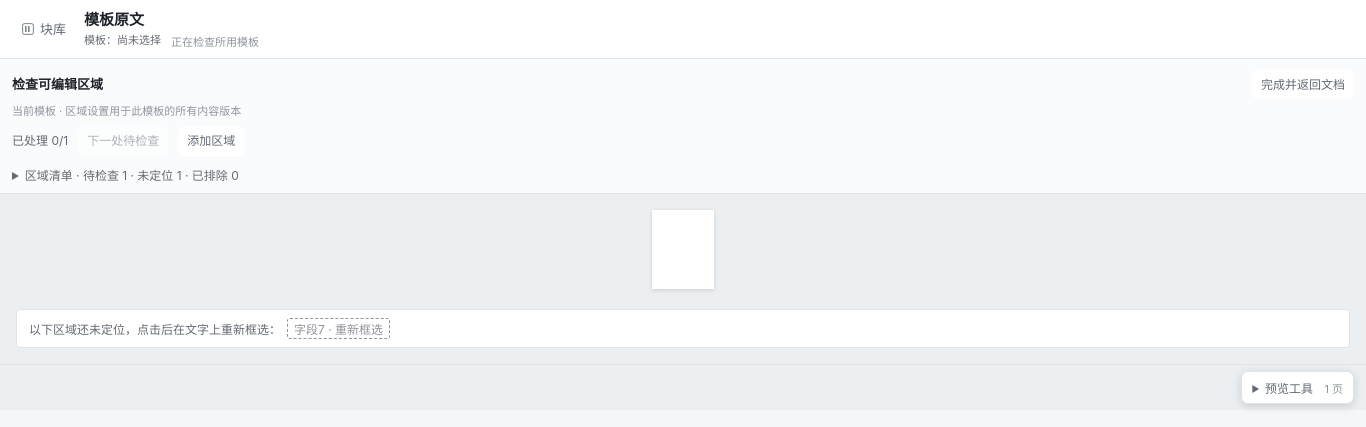
Scenario: 未定位项可直接重新框选并保留原区域身份
The width and height of the screenshot is (1366, 427).
Click the button with class "unplaced-chip" at x=338, y=328, box [287, 318, 390, 339]
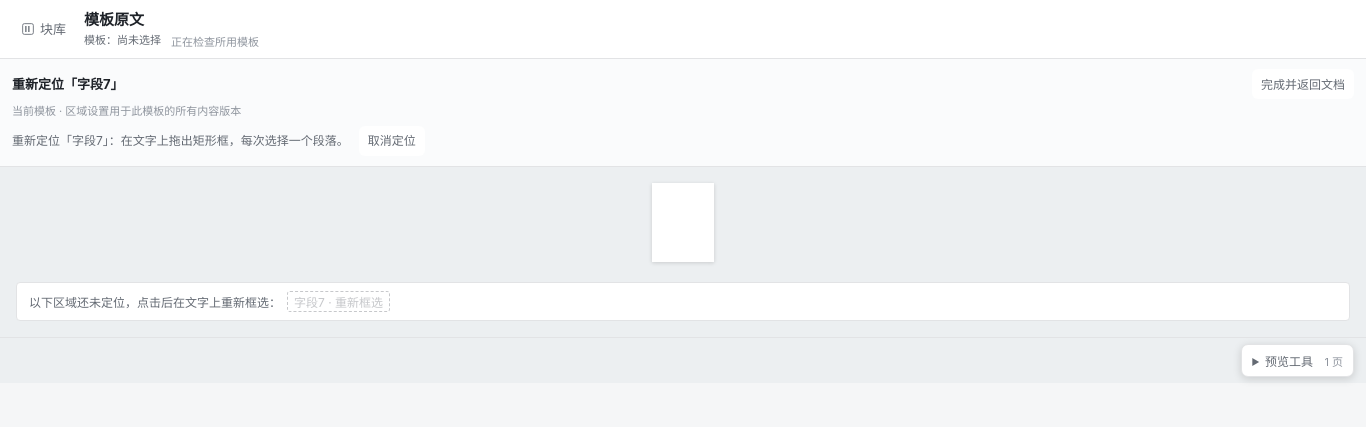
Expected: the element with class "frame-guide" shows "重新定位「字段7」", [12, 76, 124, 92]
Click the button with test id "cancel-region-task" at x=392, y=141, box [359, 126, 425, 156]
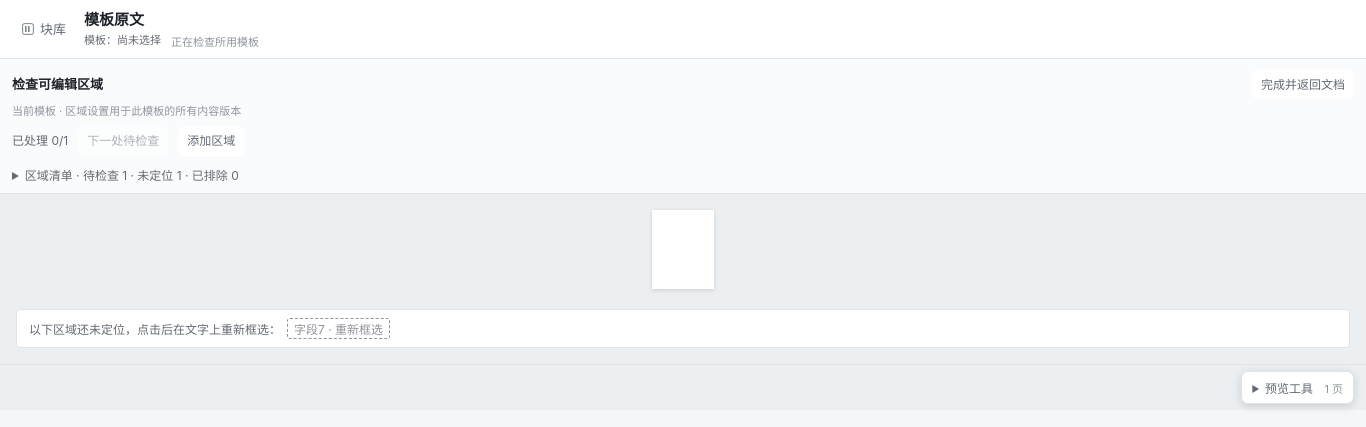
Expected: the text with class "frame-guide" no longer shows "重新定位「字段7」"
